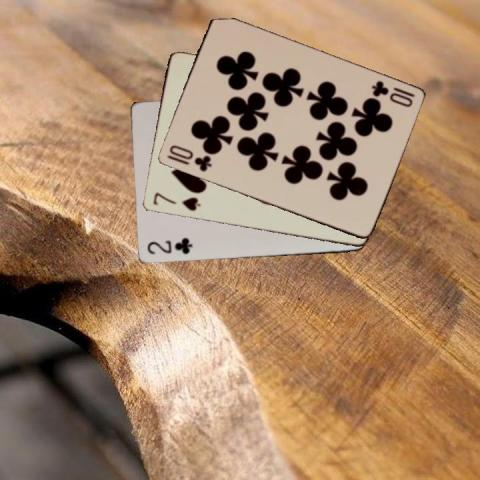10c: (163, 142, 213, 173), (368, 77, 415, 109)
2c: (144, 235, 193, 256)
7s: (149, 189, 202, 213)
